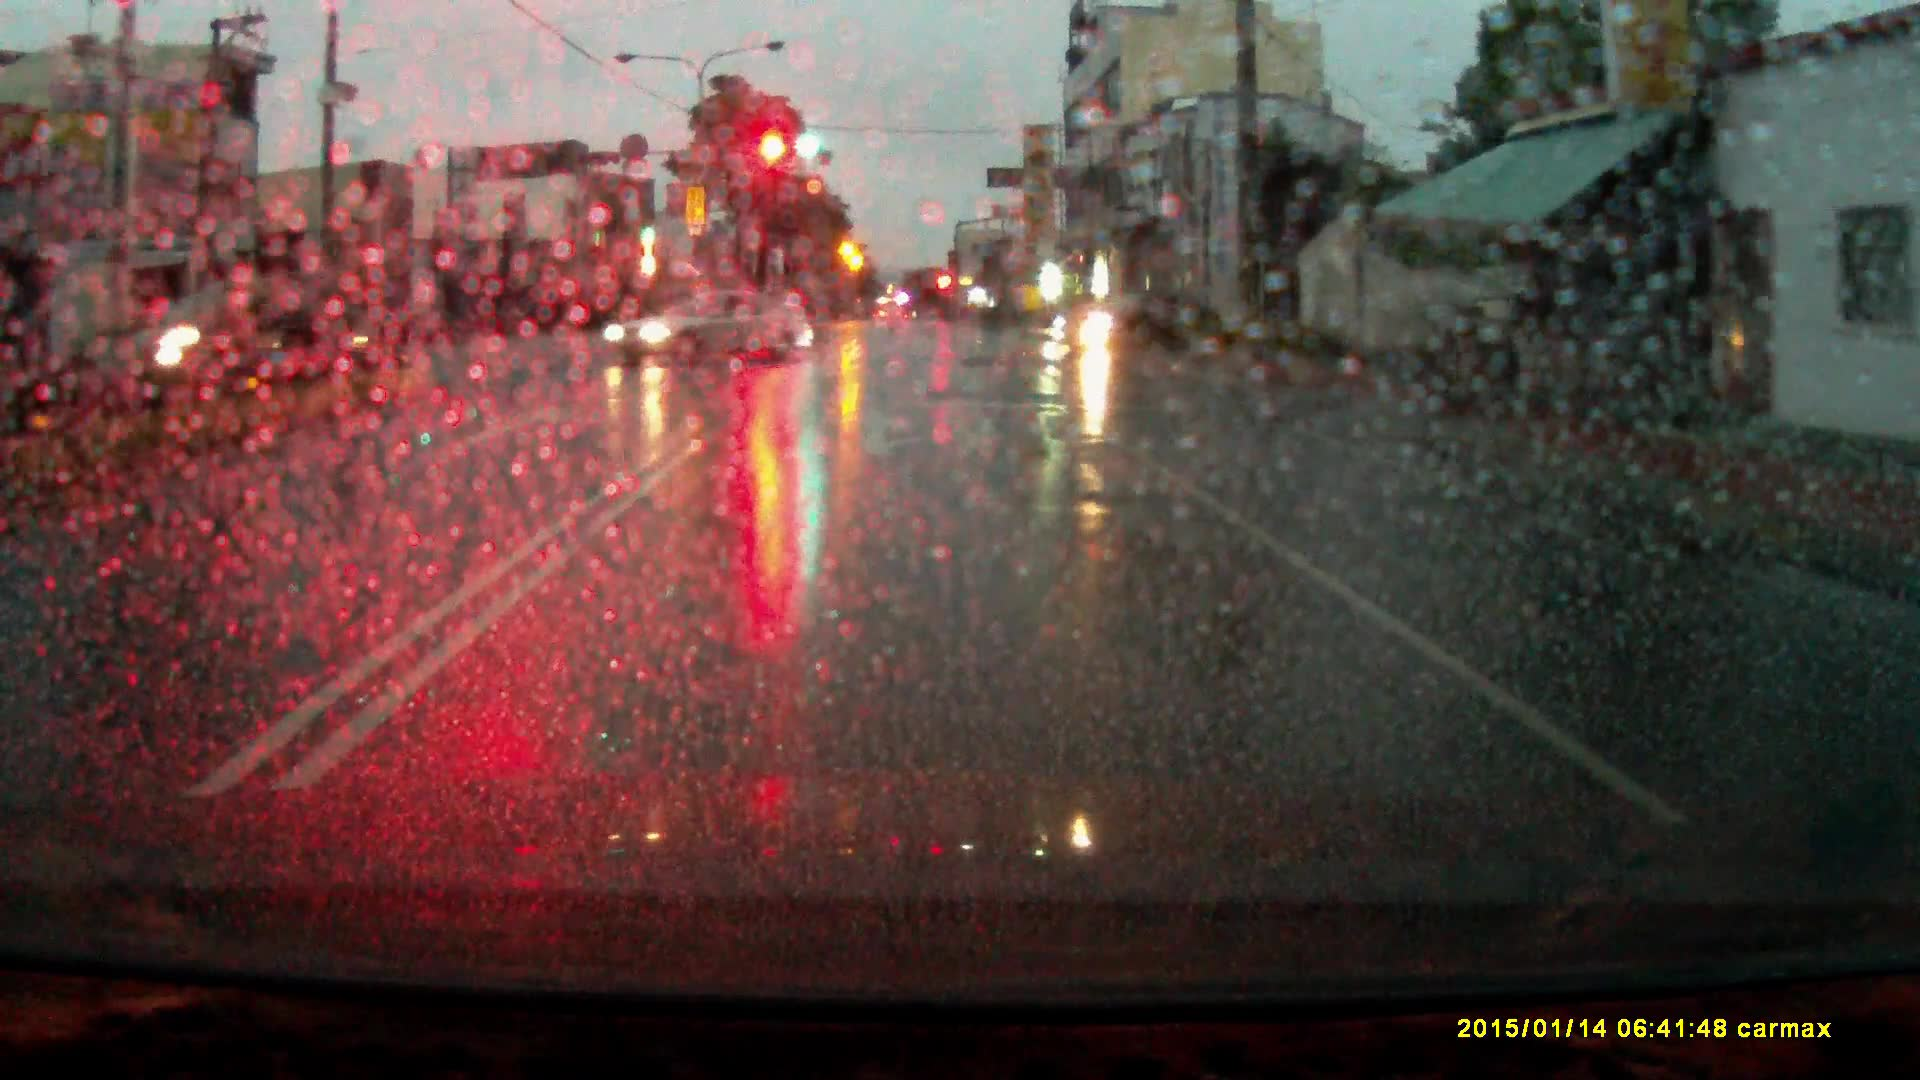vehicle: (125, 269, 386, 376), (600, 284, 818, 367), (1055, 294, 1221, 353)
